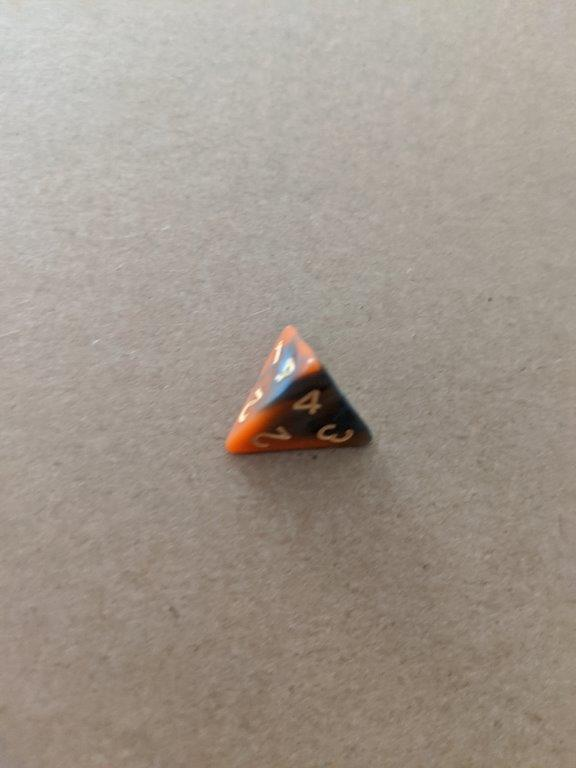d4-4: (220, 322, 378, 459)
